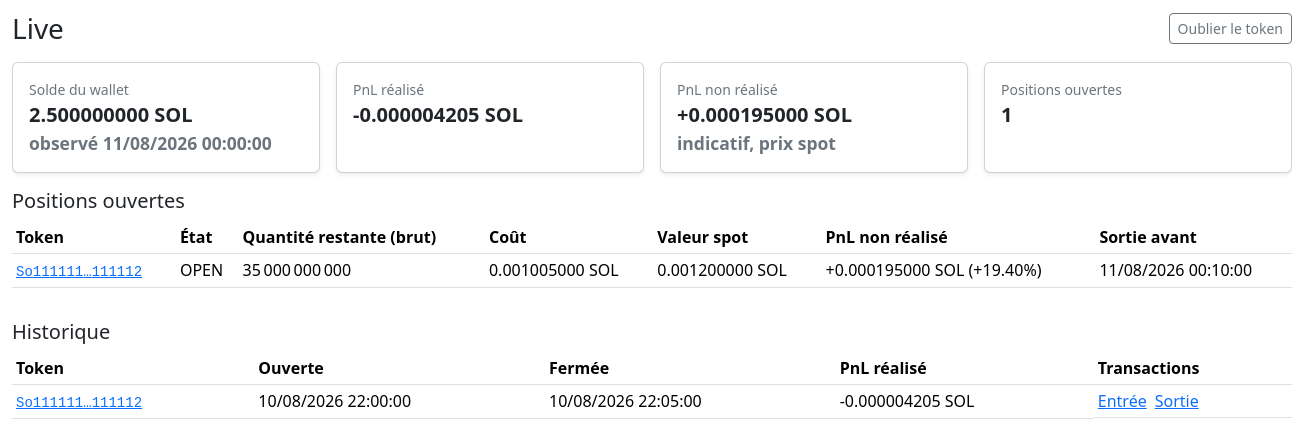
Test: live page › forgets the token on demand
Click the button "Oublier le token".
click(1230, 29)  # box 1169,13 -> 1292,44
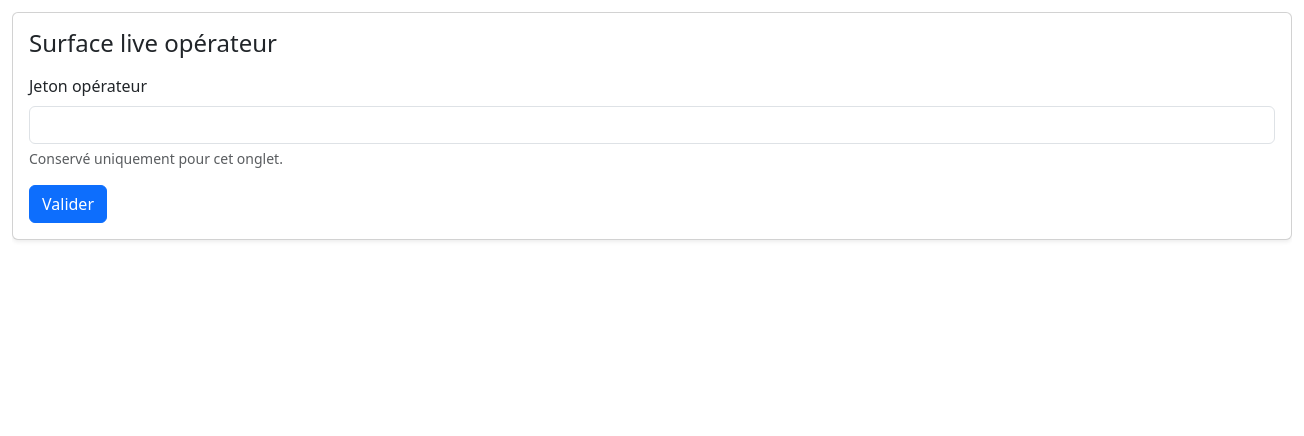
Expected: the password field labelled "Jeton opérateur" is shown, 29,106 -> 1275,144
